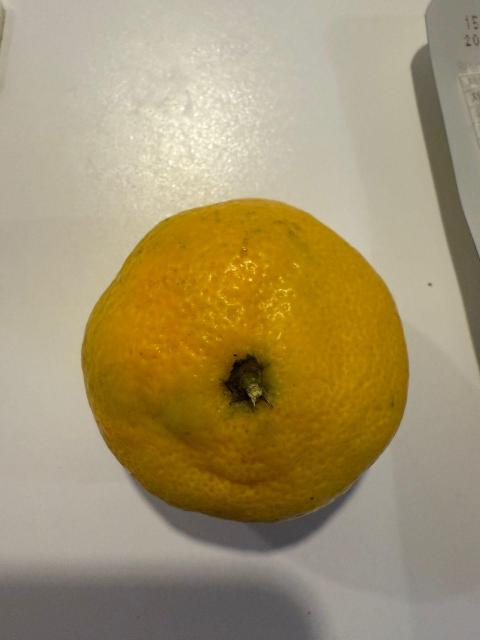Organik: (84, 197, 409, 532)
